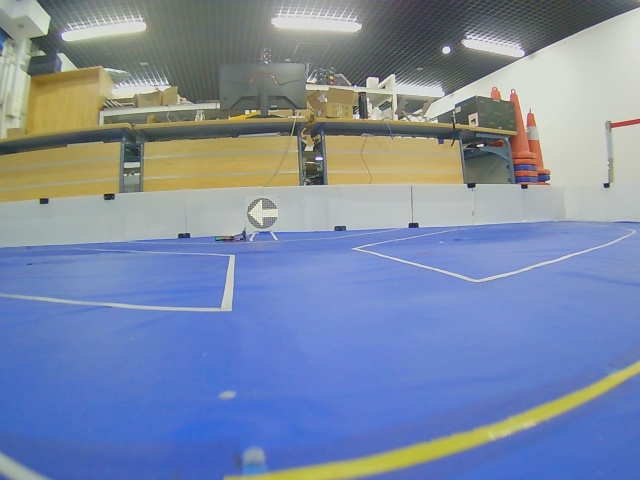left_yellow: (247, 198, 278, 229)
